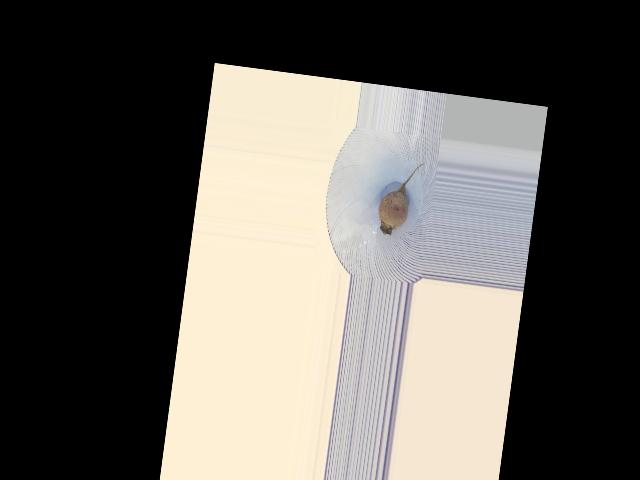beet: (376, 158, 424, 238)
